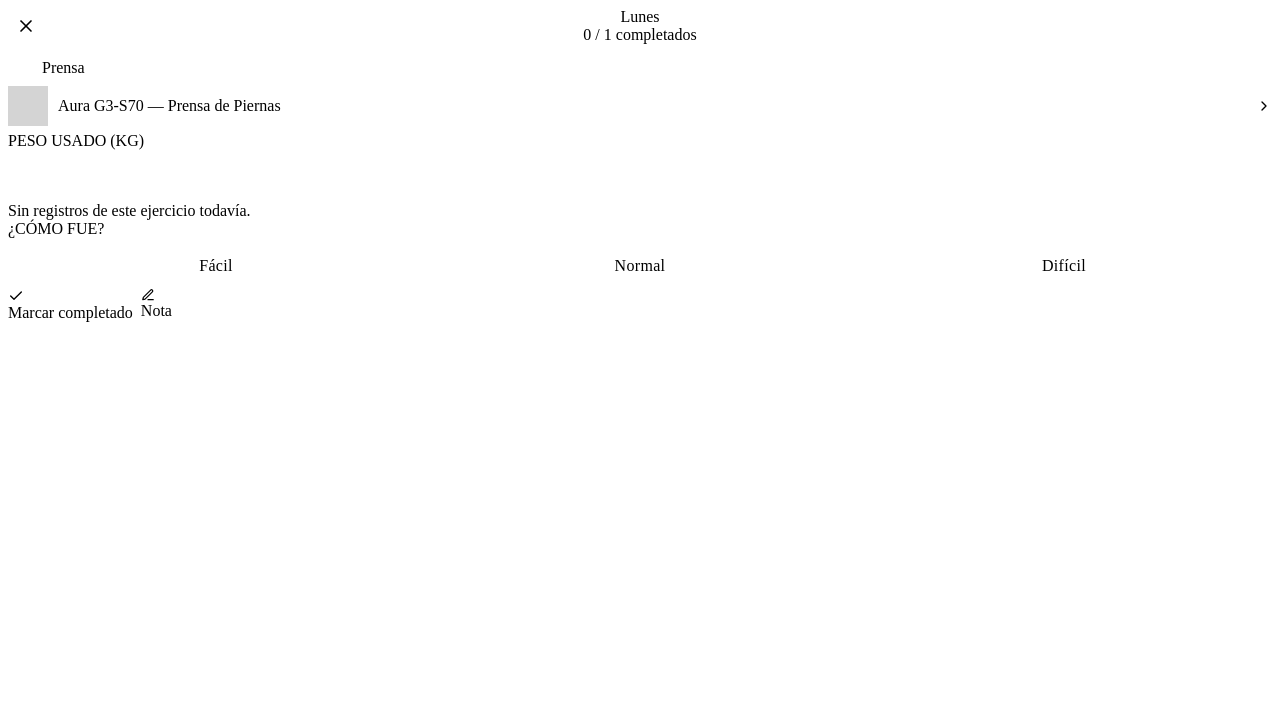
Test case: S1 — club absence report inside the equipment reference sheet (AC1, AC2, AC4) › offers exactly one report action on a catalog machine with a club selected, named for what it does (AC1)
Click the button "Aura G3-S70 — Prensa de Piernas" at coordinates (28, 106), box [8,80,1272,132]
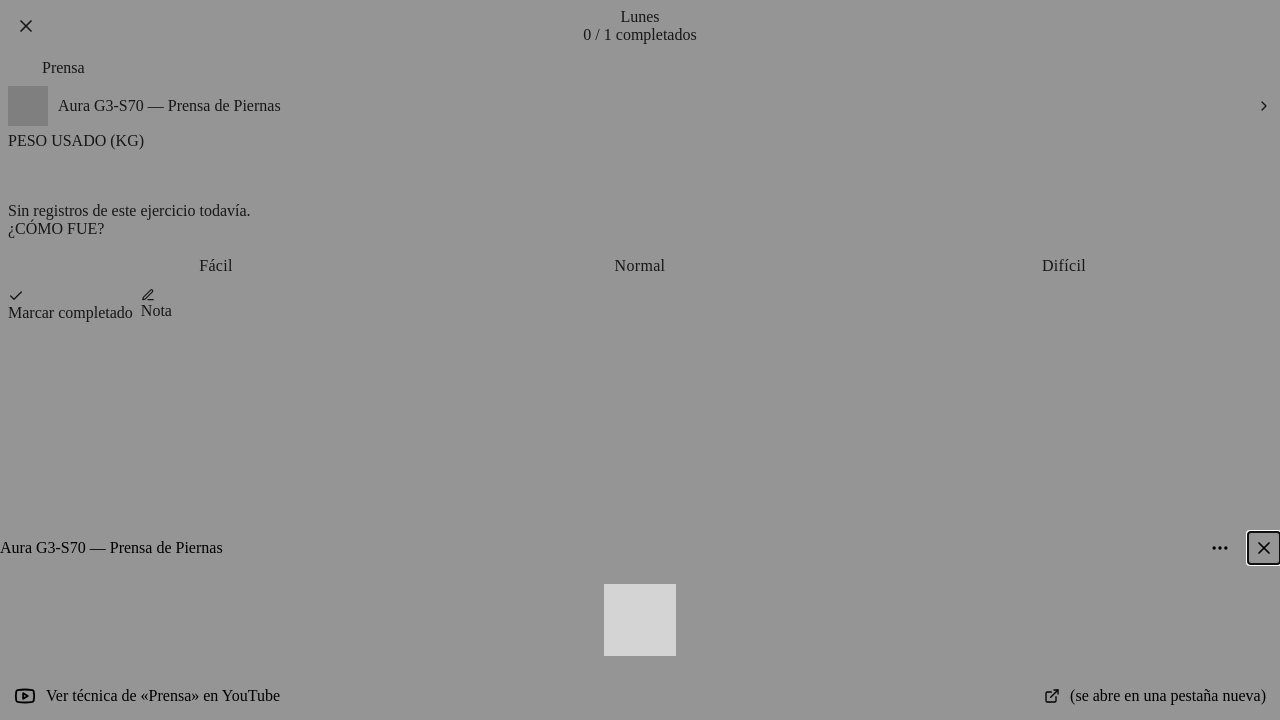
Expected: the dialog is shown, [0,528,1279,719]
Click the button named "más acciones" at coordinates (1220, 548), box [1200,528,1240,568]
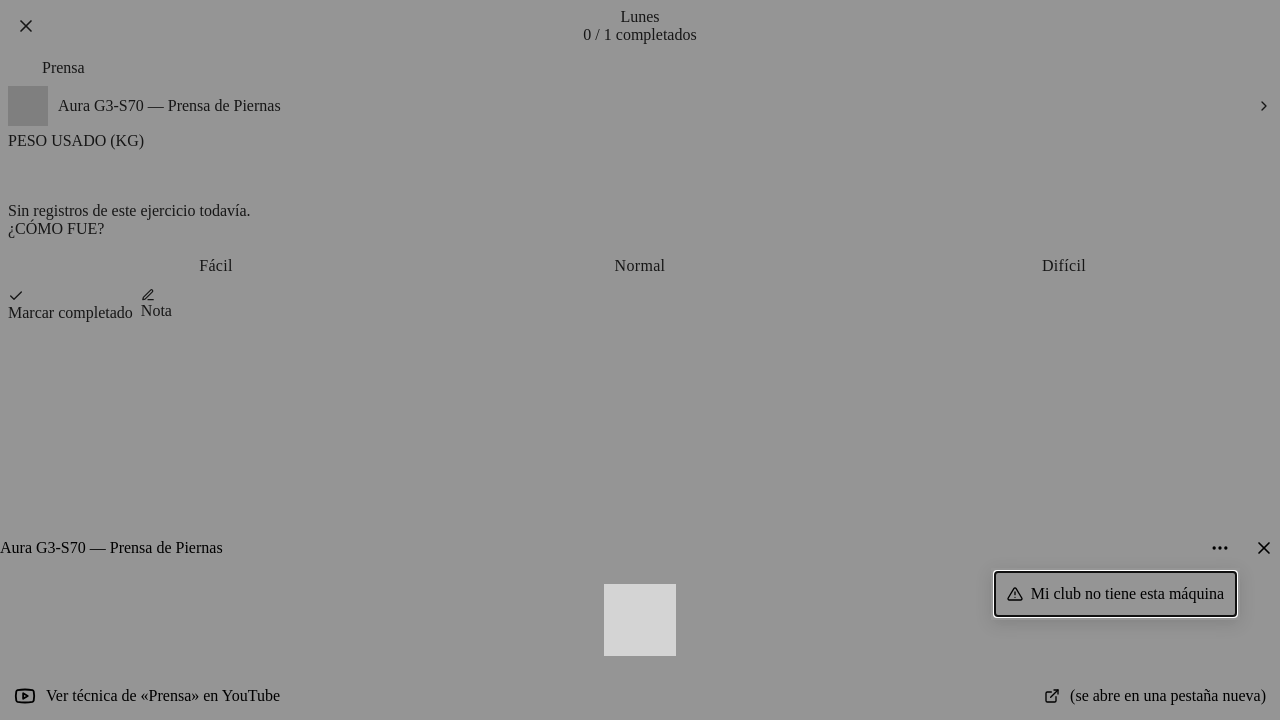
Expected: the menu item "Mi club no tiene esta máquina" is shown, [995,572,1236,616]
